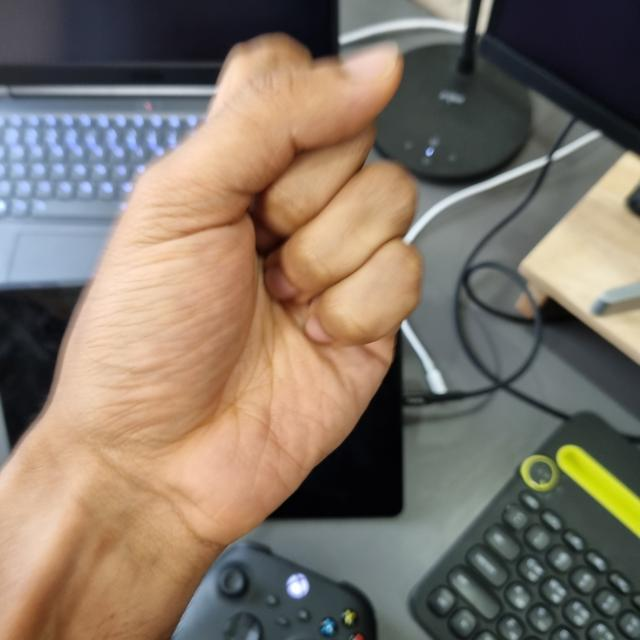Rock: (49, 38, 423, 537)
